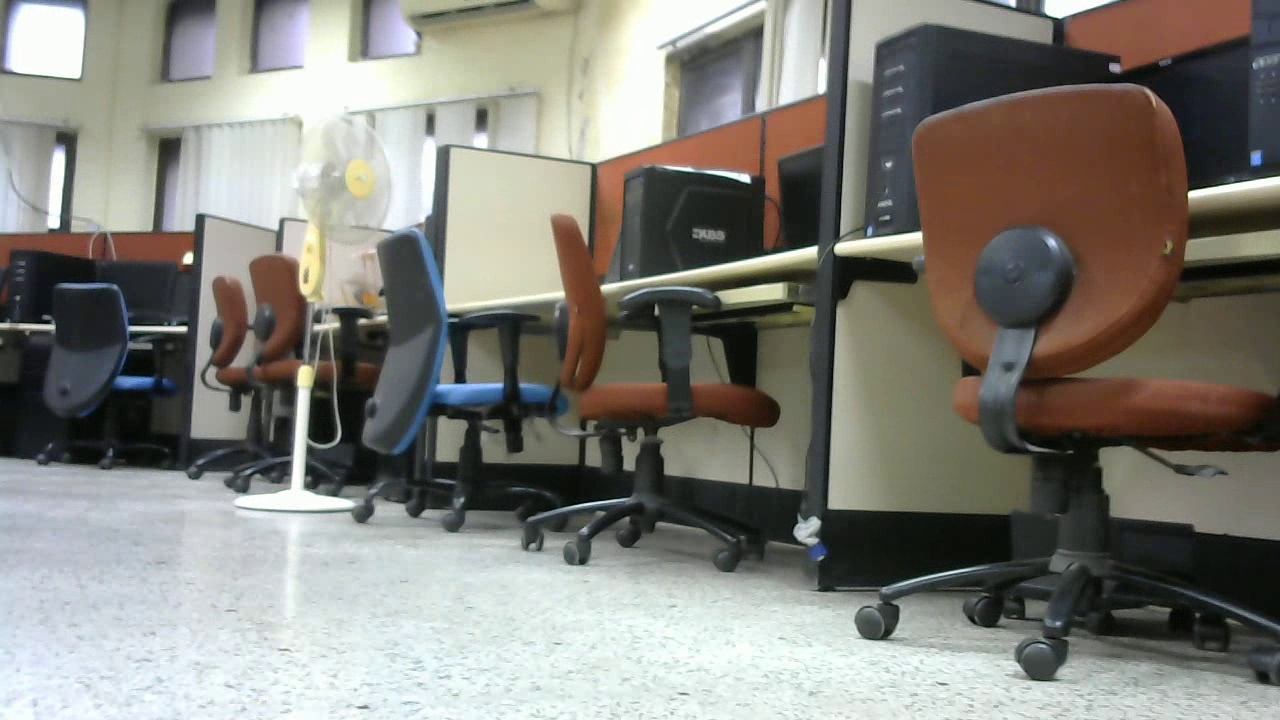chair: (851, 80, 1280, 684), (520, 207, 785, 575), (343, 225, 565, 527), (197, 253, 386, 499), (33, 277, 176, 475)
